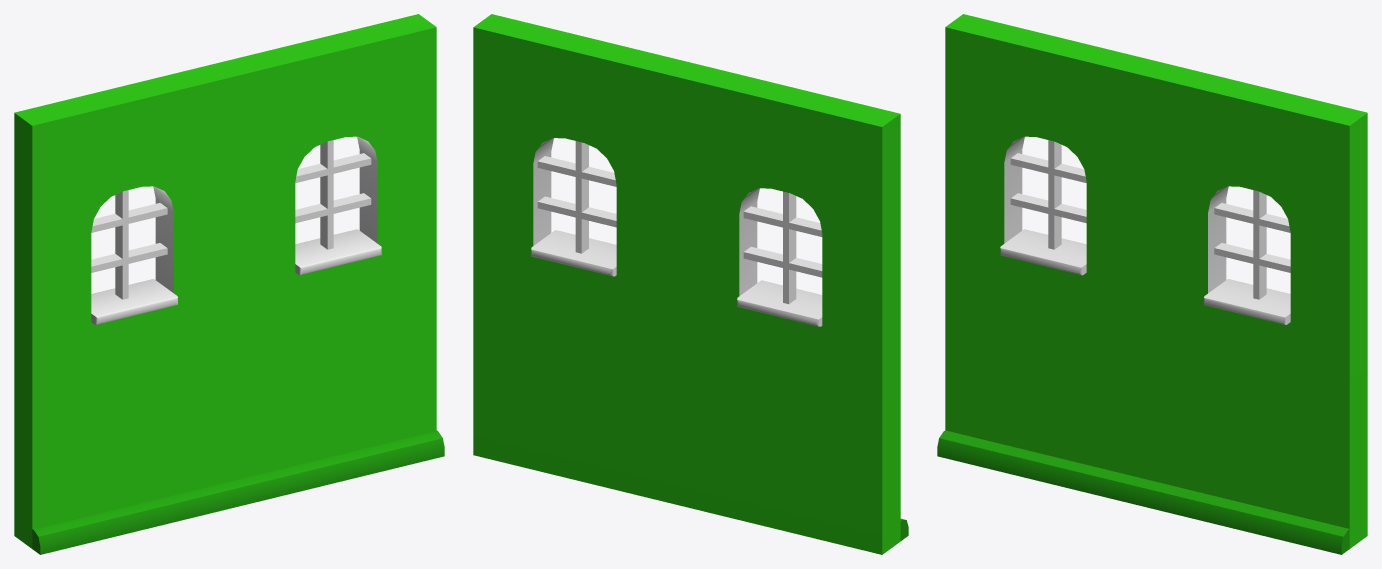
The model's file is G_Wall001.fbx.
3 views of the same model, side by side, from view 1: azimuth 30°, elevation 25°; view 2: azimuth 150°, elevation 25°; view 3: azimuth 330°, elevation 25° (orthographic).
Parts seen in each view (by area): view 1: Wall001.002; view 2: Wall001.002; view 3: Wall001.002.
Part boxes in pixels (x1,y1,x2,y2): Wall001.002: [14, 14, 444, 554]; Wall001.002: [473, 14, 908, 554]; Wall001.002: [937, 14, 1367, 554].
Size of the model in its own units: 250 by 250 by 31.39.
1 material, 1 textured.
